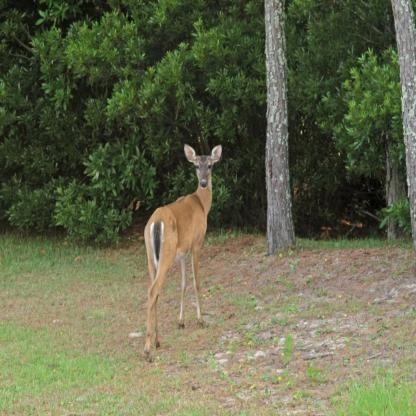Deer: (143, 144, 222, 362)
